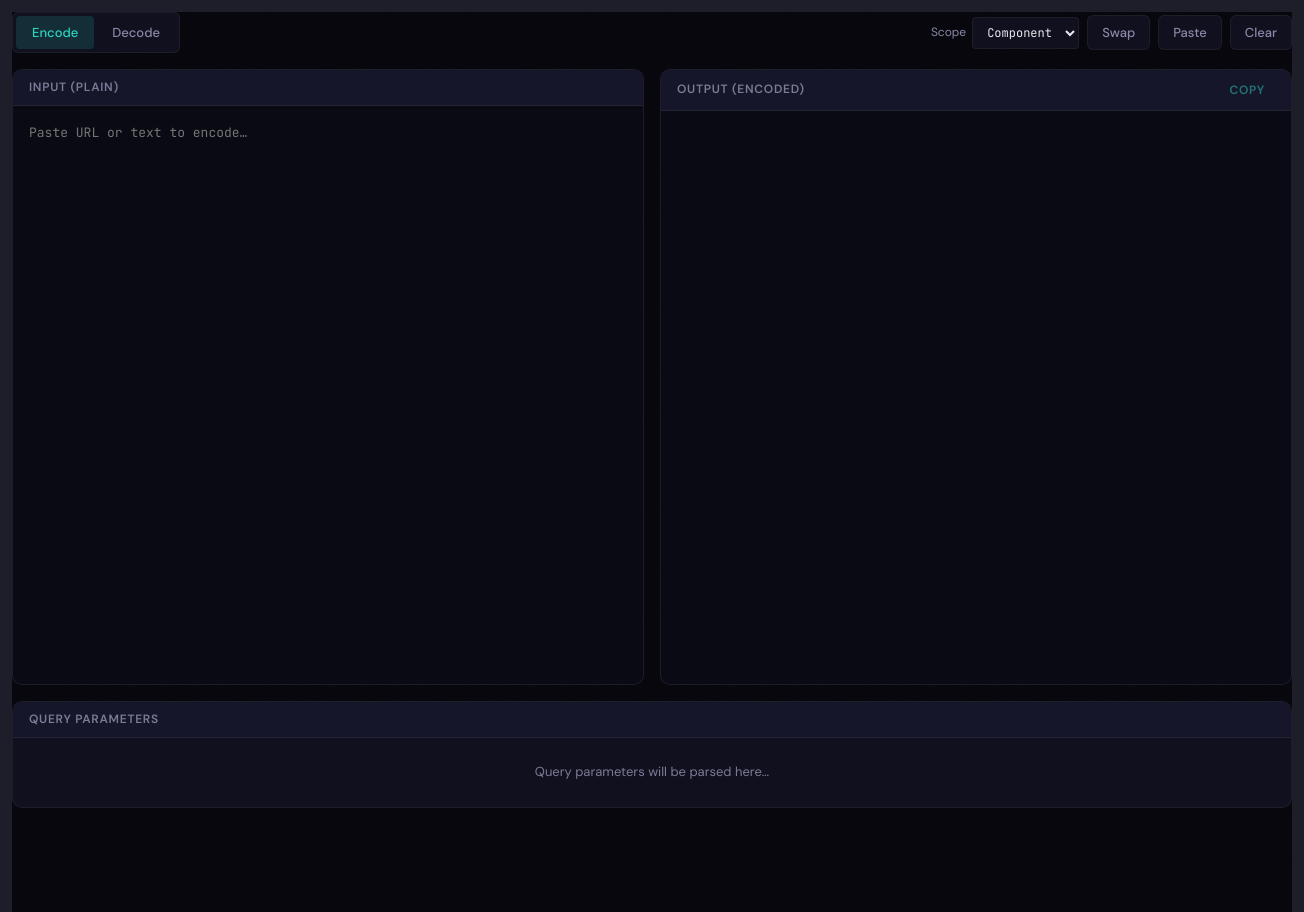
UrlCodec › shows error for invalid decode input
Click the tab "Decode".
click(136, 32)  # box [96,16,176,49]
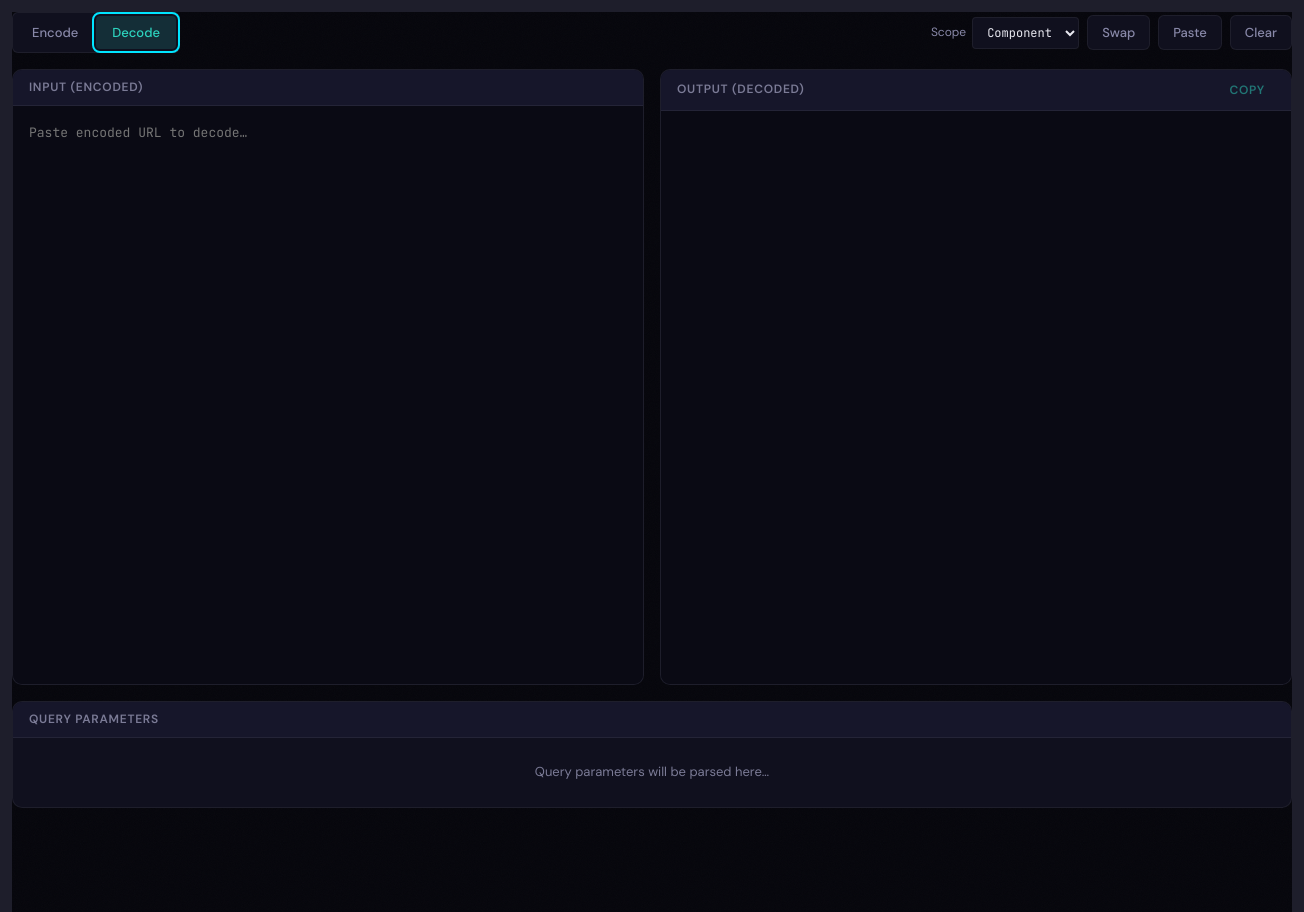
Type "%E0%A4%A" into the text box named "encoded url input".
click(328, 395); type("%E0%A4%A")  # box [13,106,643,684]
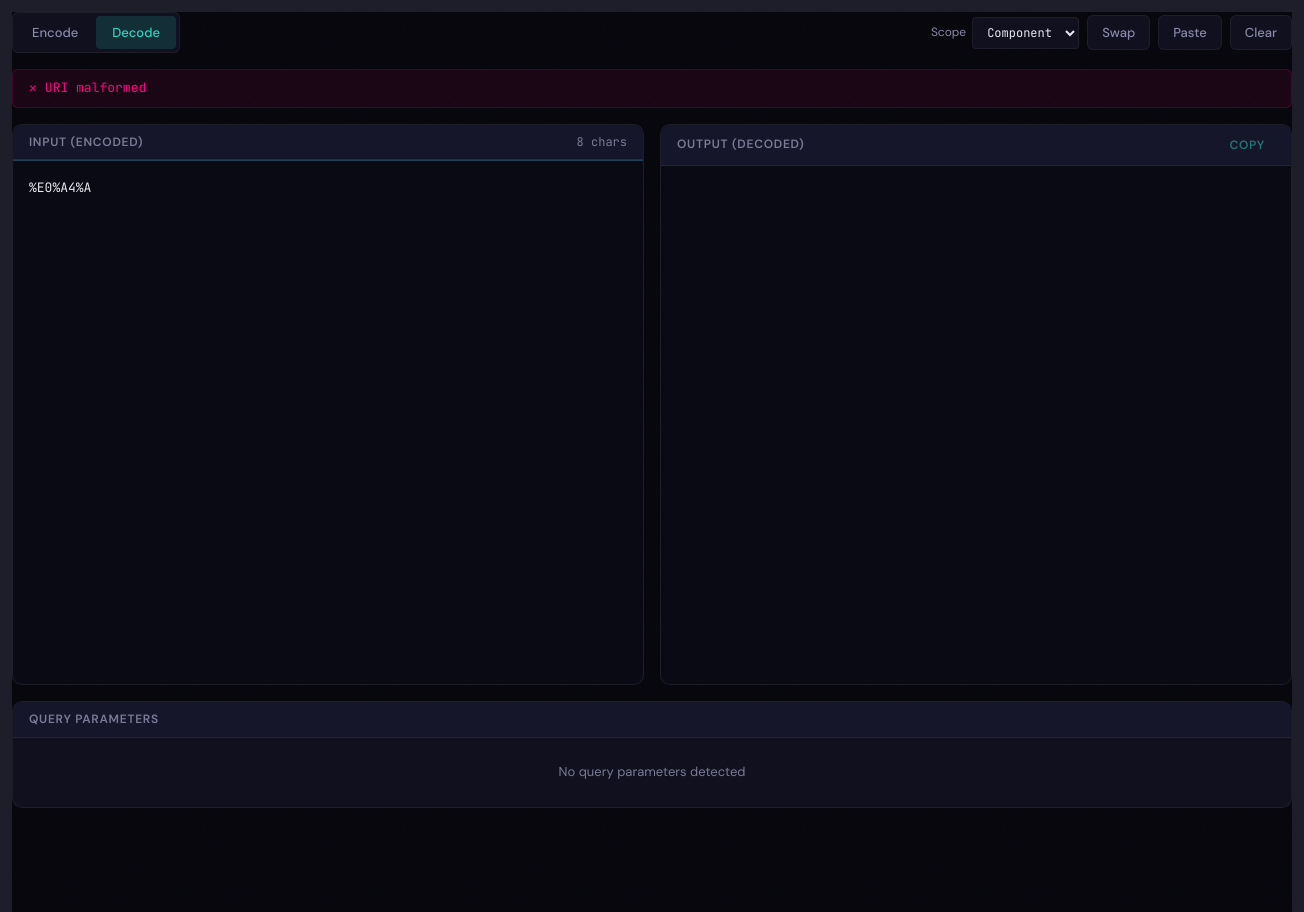
Now the message is shown, box [12,69,1292,108]
